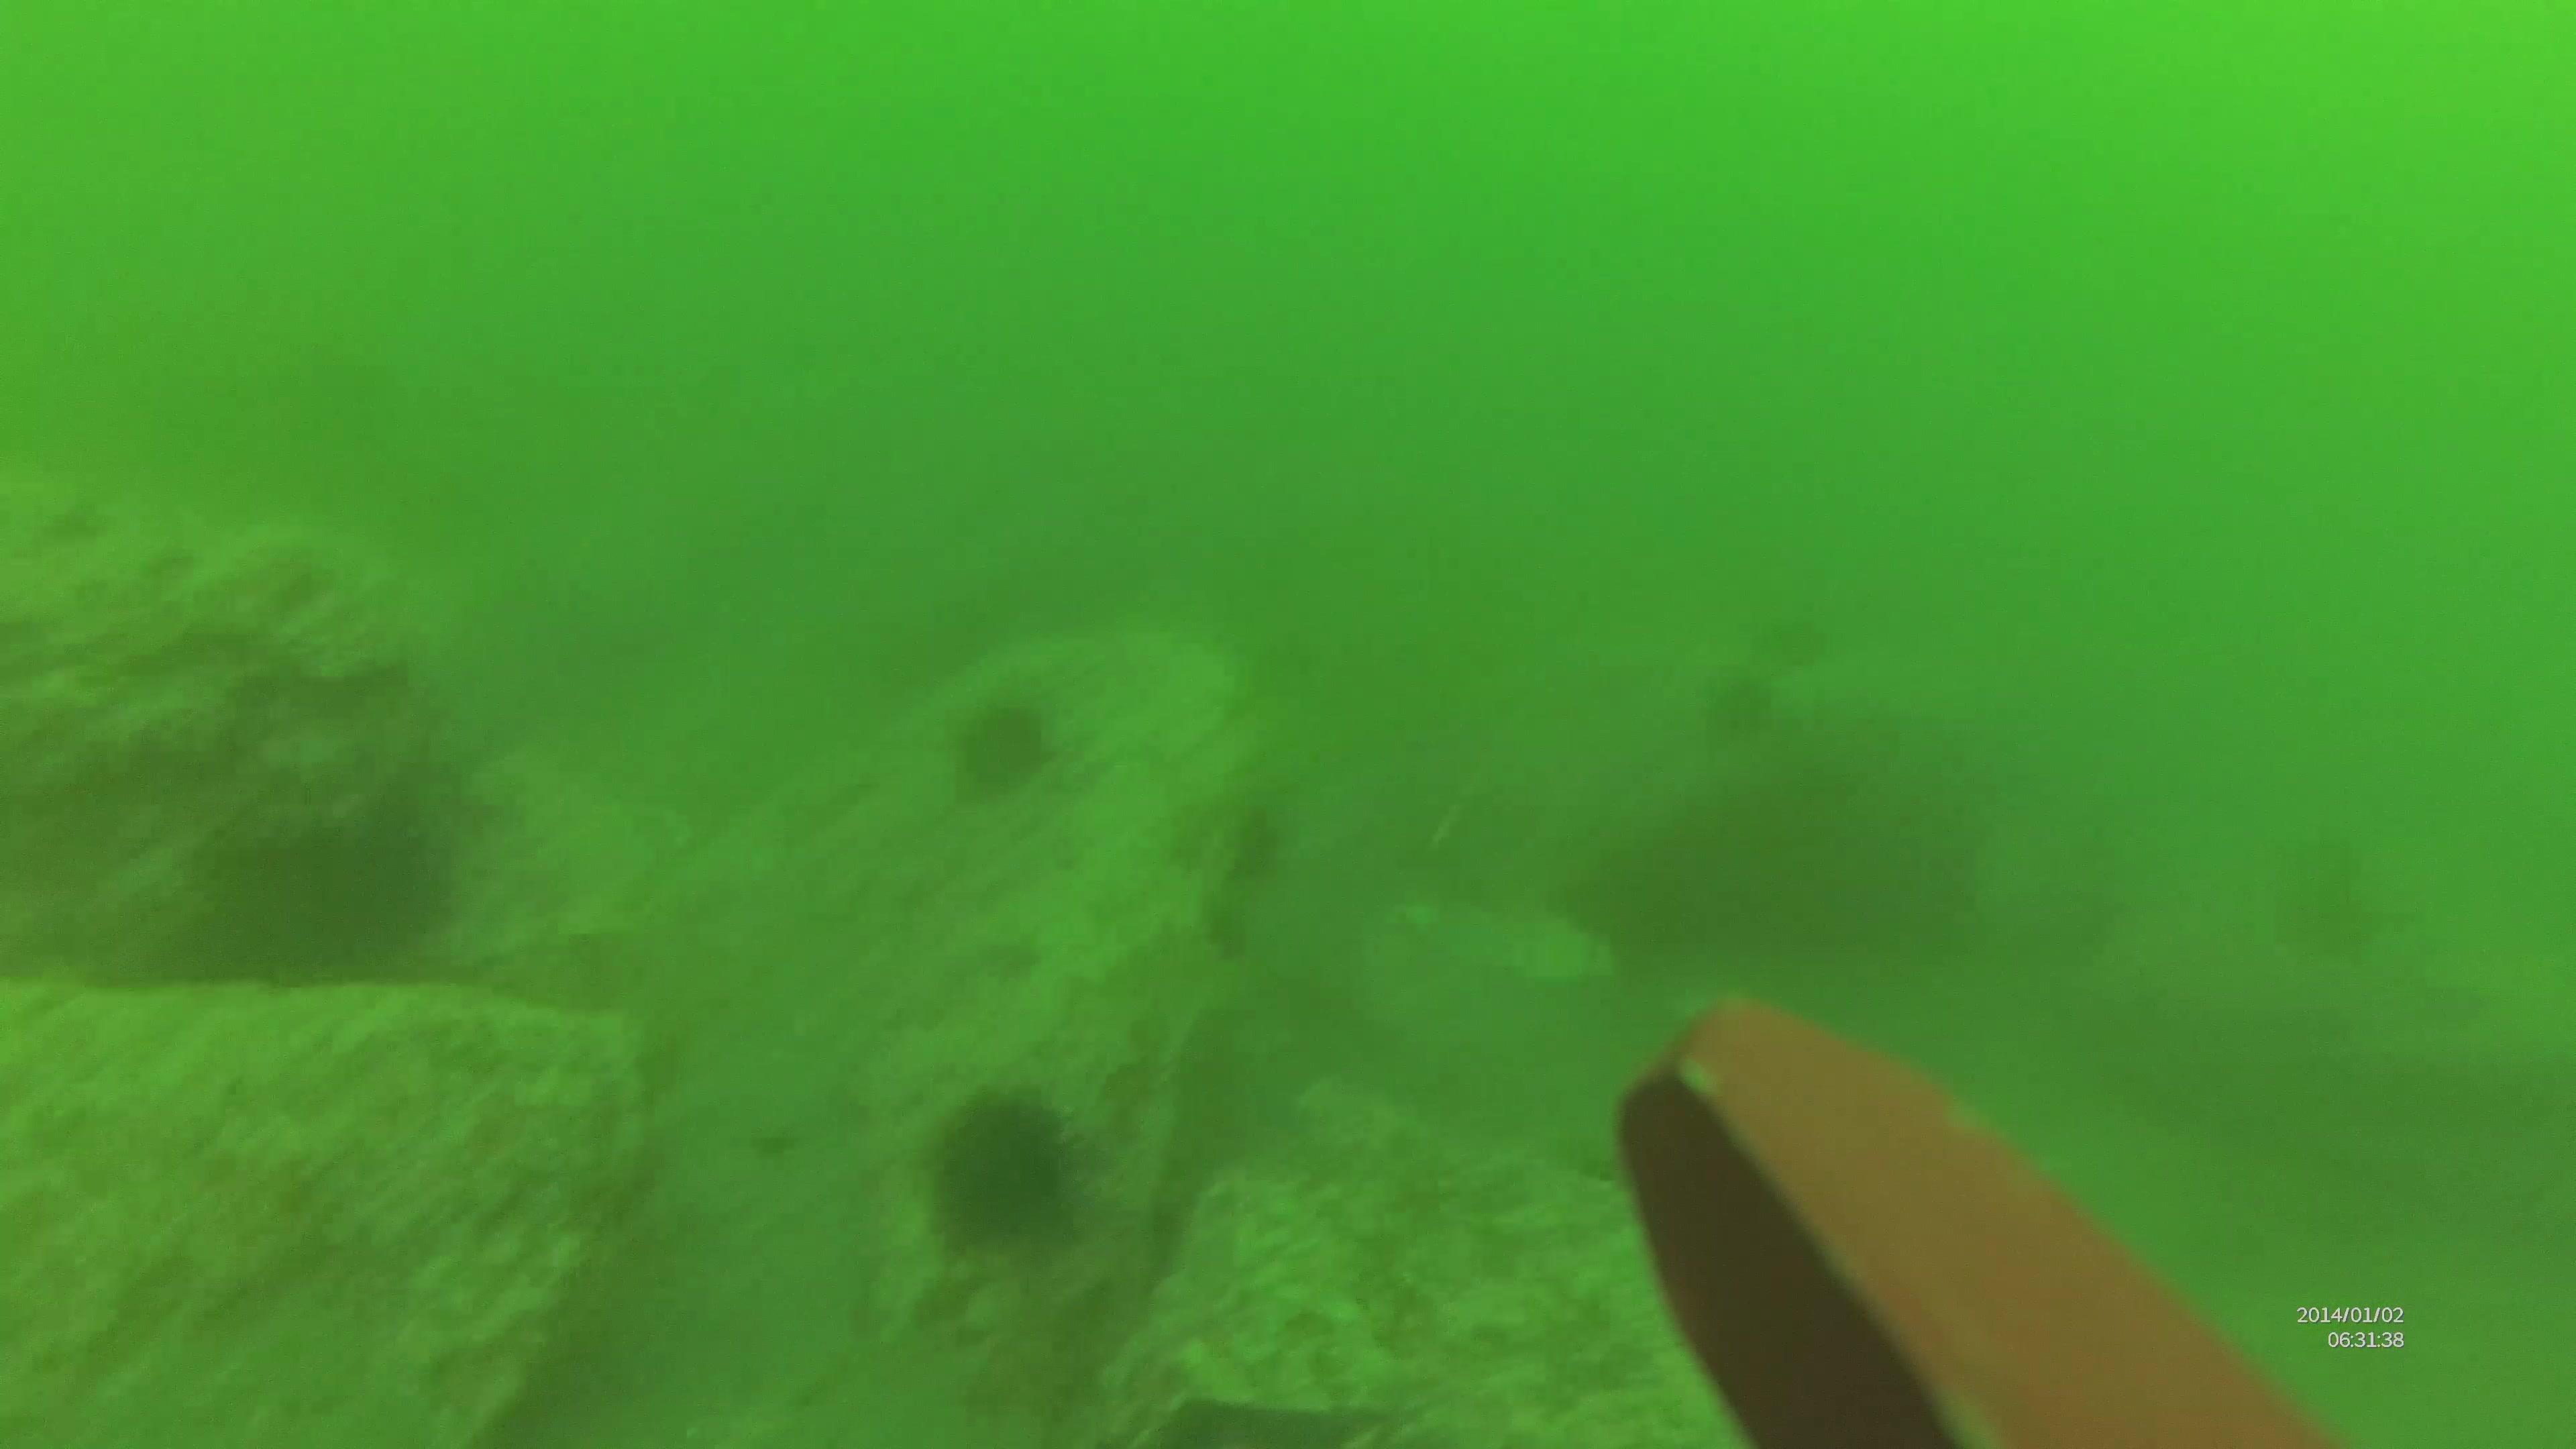echinus: (918, 1088, 1085, 1244), (954, 702, 1051, 793)
